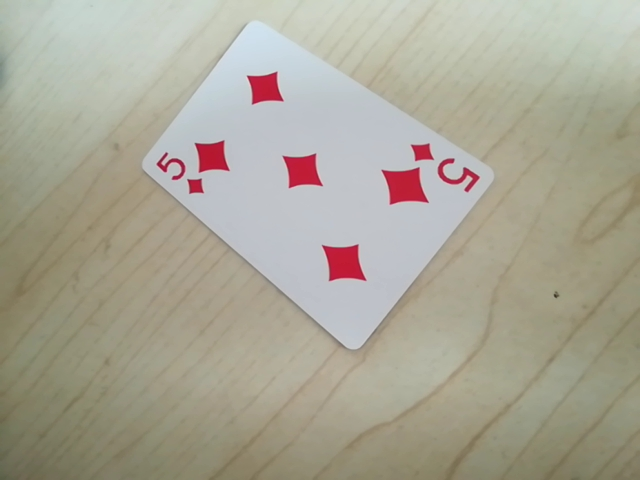fk 5: (405, 145, 483, 190), (154, 153, 213, 197)
